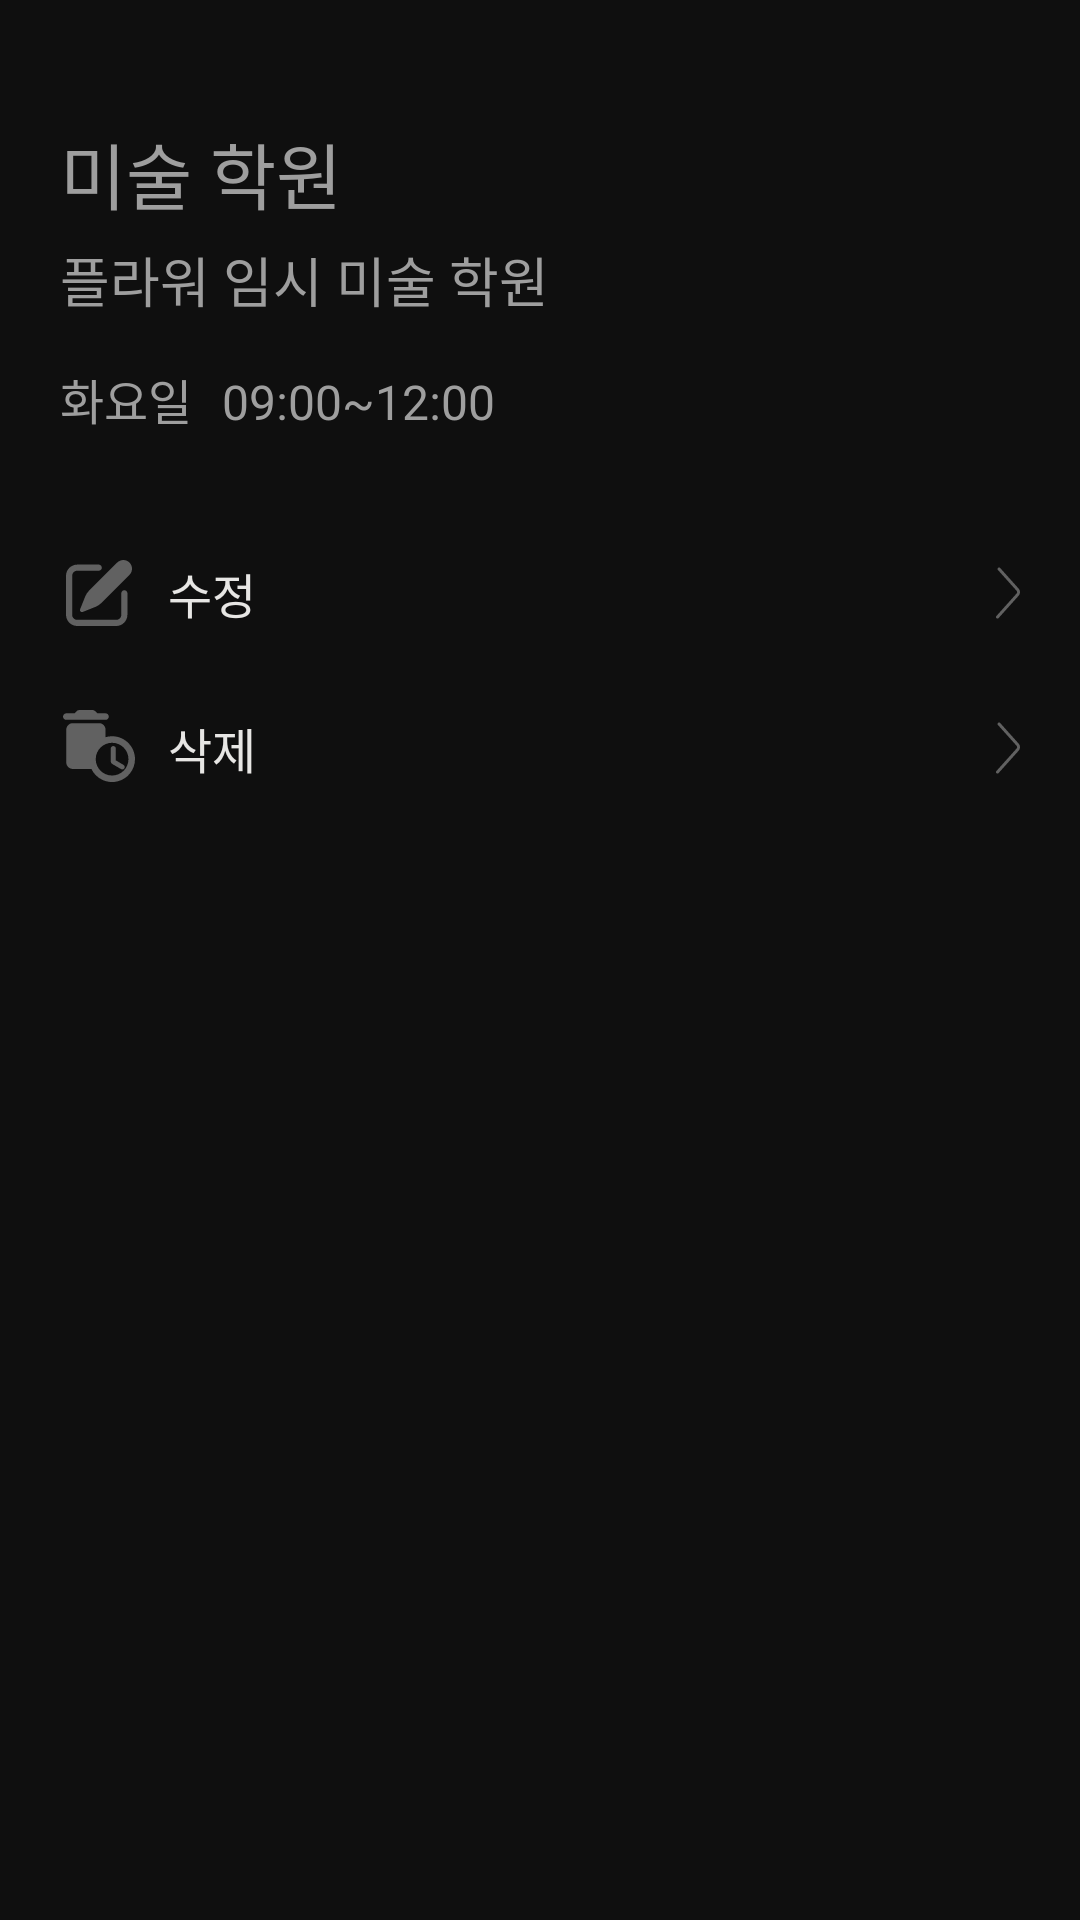

Icon click points for this 1080x1920 phone screenshot, format point (x, y):
delete: point (99, 746)
edit: point (99, 593)
next: point (1008, 593), point (1008, 748)
